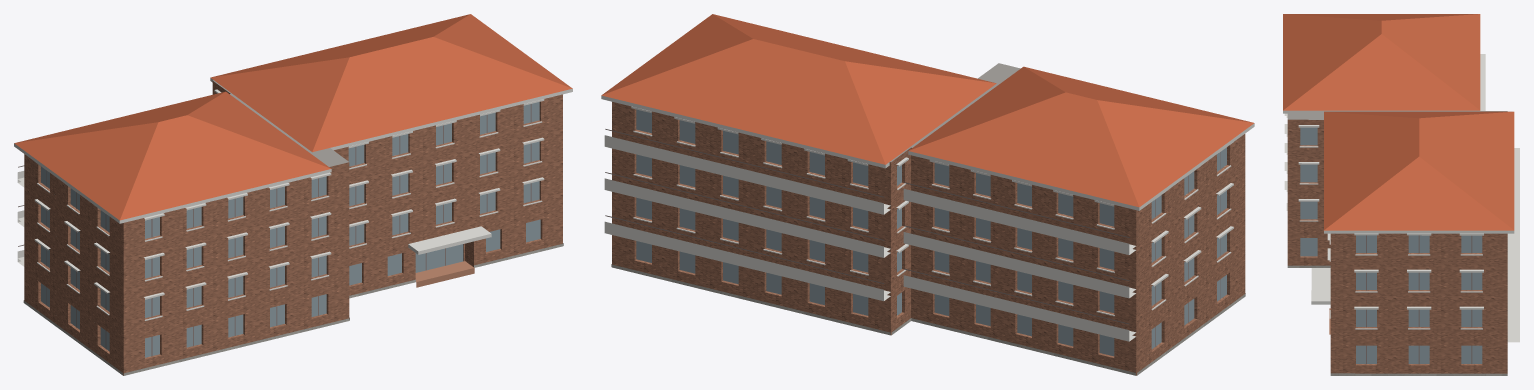
3 renders of one model, left to right at view 1: azimuth 30°, elevation 25°; view 2: azimuth 150°, elevation 25°; view 3: azimuth 270°, elevation 25°, orthographic. The views are drawn at different scales.
Visible parts, largest first — view 1: osm136188127__wall, osm136188127__roofAccent, osm136188127__glass, osm136188127__trim, osm136188127__base, osm136188127__frame, osm136188127__canopy, osm136188127__entranceThreshold_0, osm136188127__roof; view 2: osm136188127__wall, osm136188127__roofAccent, osm136188127__trim, osm136188127__glass, osm136188127__frame, osm136188127__base, osm136188127__roof; view 3: osm136188127__roofAccent, osm136188127__wall, osm136188127__glass, osm136188127__trim, osm136188127__roof, osm136188127__canopy, osm136188127__base, osm136188127__frame.
Part boxes in pixels (<box>): osm136188127__wall: <box>24,81,562,375</box>; osm136188127__roofAccent: <box>14,14,572,220</box>; osm136188127__glass: <box>41,102,540,357</box>; osm136188127__trim: <box>14,78,572,320</box>; osm136188127__base: <box>23,243,563,375</box>; osm136188127__frame: <box>18,104,531,356</box>; osm136188127__canopy: <box>408,226,491,254</box>; osm136188127__entranceThreshold_0: <box>415,261,474,287</box>; osm136188127__roof: <box>123,80,348,375</box>; osm136188127__wall: <box>612,102,1245,375</box>; osm136188127__roofAccent: <box>601,14,1254,207</box>; osm136188127__trim: <box>601,95,1254,341</box>; osm136188127__glass: <box>636,109,1226,356</box>; osm136188127__frame: <box>605,129,1220,346</box>; osm136188127__base: <box>611,264,1245,375</box>; osm136188127__roof: <box>890,63,1136,375</box>; osm136188127__roofAccent: <box>1283,14,1514,230</box>; osm136188127__wall: <box>1287,119,1507,373</box>; osm136188127__glass: <box>1300,127,1482,363</box>; osm136188127__trim: <box>1283,54,1519,342</box>; osm136188127__roof: <box>1287,110,1507,119</box>; osm136188127__canopy: <box>1311,268,1330,304</box>; osm136188127__base: <box>1287,265,1507,375</box>; osm136188127__frame: <box>1366,235,1472,364</box>.
Size of the model in its own units: 37.63 by 15.23 by 17.4.
Materials: 10 (2 with a texture image).
